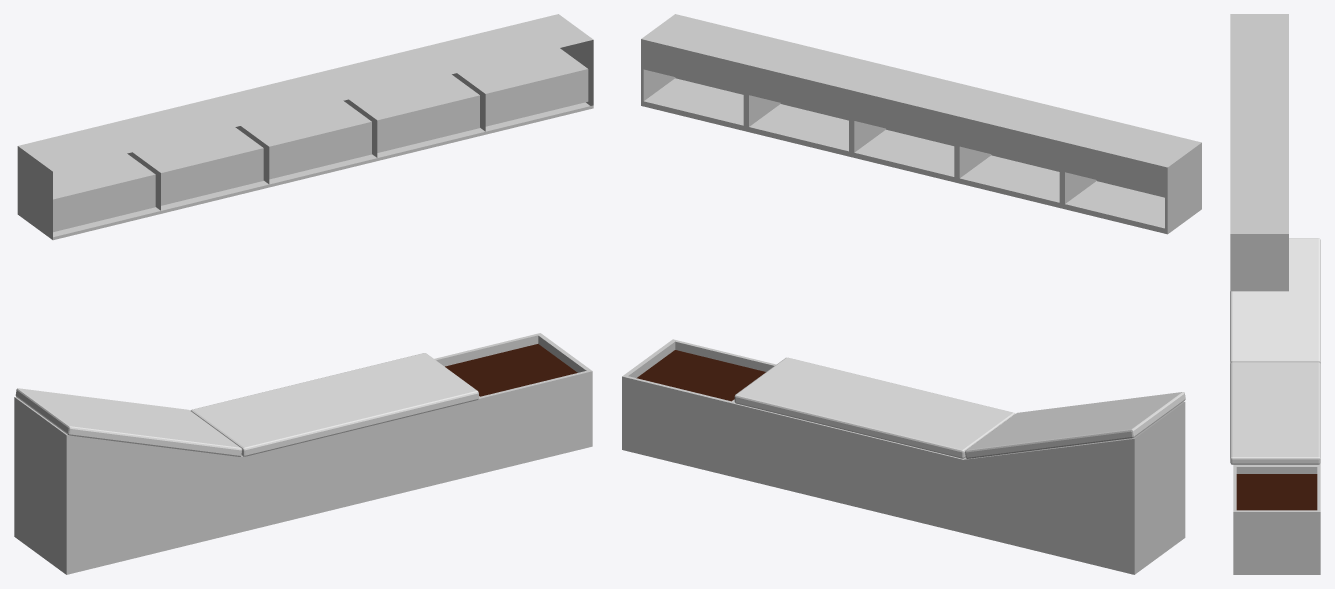
Rendered from banco_frente.fbx.
3 renders of one model, left to right at view 1: azimuth 30°, elevation 25°; view 2: azimuth 150°, elevation 25°; view 3: azimuth 270°, elevation 25°, orthographic. The views are drawn at different scales.
Parts seen in each view (by area): view 1: Plane.238; view 2: Plane.238; view 3: Plane.238.
Boxes of the visible parts, x1,y1,x2,y2 form: Plane.238: (14, 14, 593, 574); Plane.238: (622, 14, 1201, 574); Plane.238: (1230, 14, 1320, 574).
Size of the model in its own units: 421 by 304 by 72.76.
